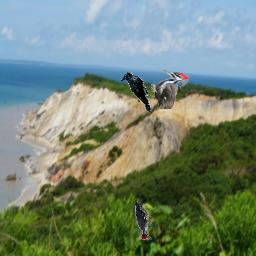Crow: (121, 72, 151, 112)
Woodpecker: (151, 69, 189, 109), (135, 200, 152, 240)
